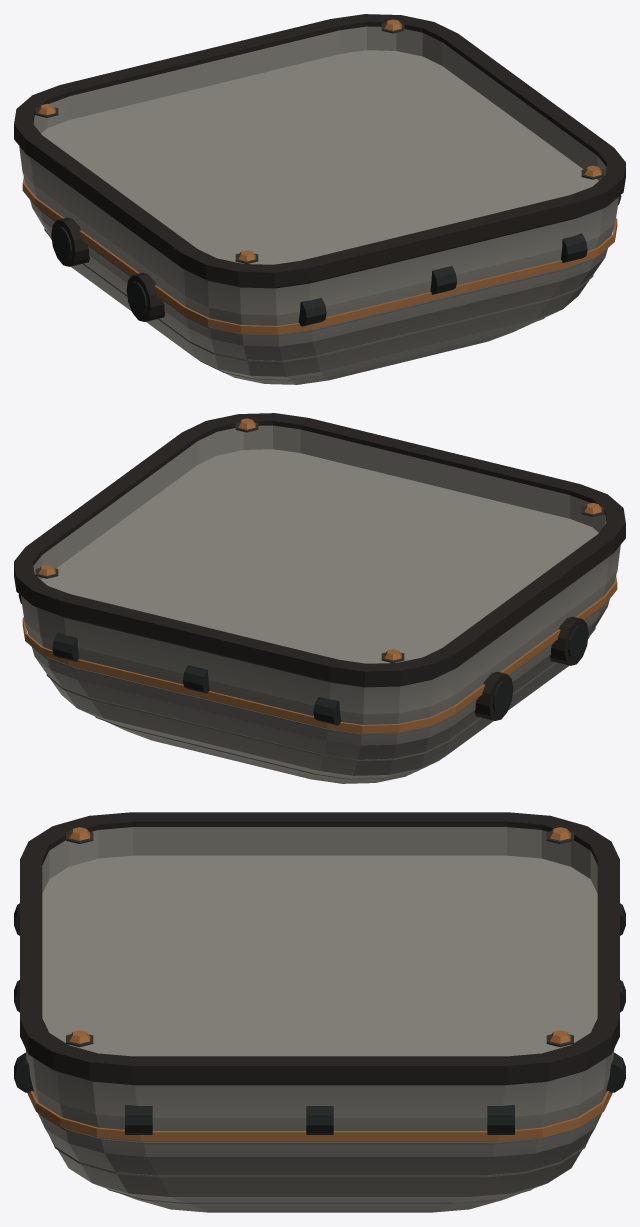
The model's file is barge.glb.
3 renders of one model, top to bottom at view 1: azimuth 30°, elevation 25°; view 2: azimuth 150°, elevation 25°; view 3: azimuth 270°, elevation 25°, orthographic. The views are drawn at different scales.
Visible parts, largest first — view 1: barge.001; view 2: barge.001; view 3: barge.001.
Part boxes in pixels (bbox=[...]): barge.001: bbox=[14, 14, 625, 384]; barge.001: bbox=[14, 413, 625, 783]; barge.001: bbox=[14, 812, 625, 1212].
Size of the model in its own units: 15.55 by 5.75 by 15.54.
